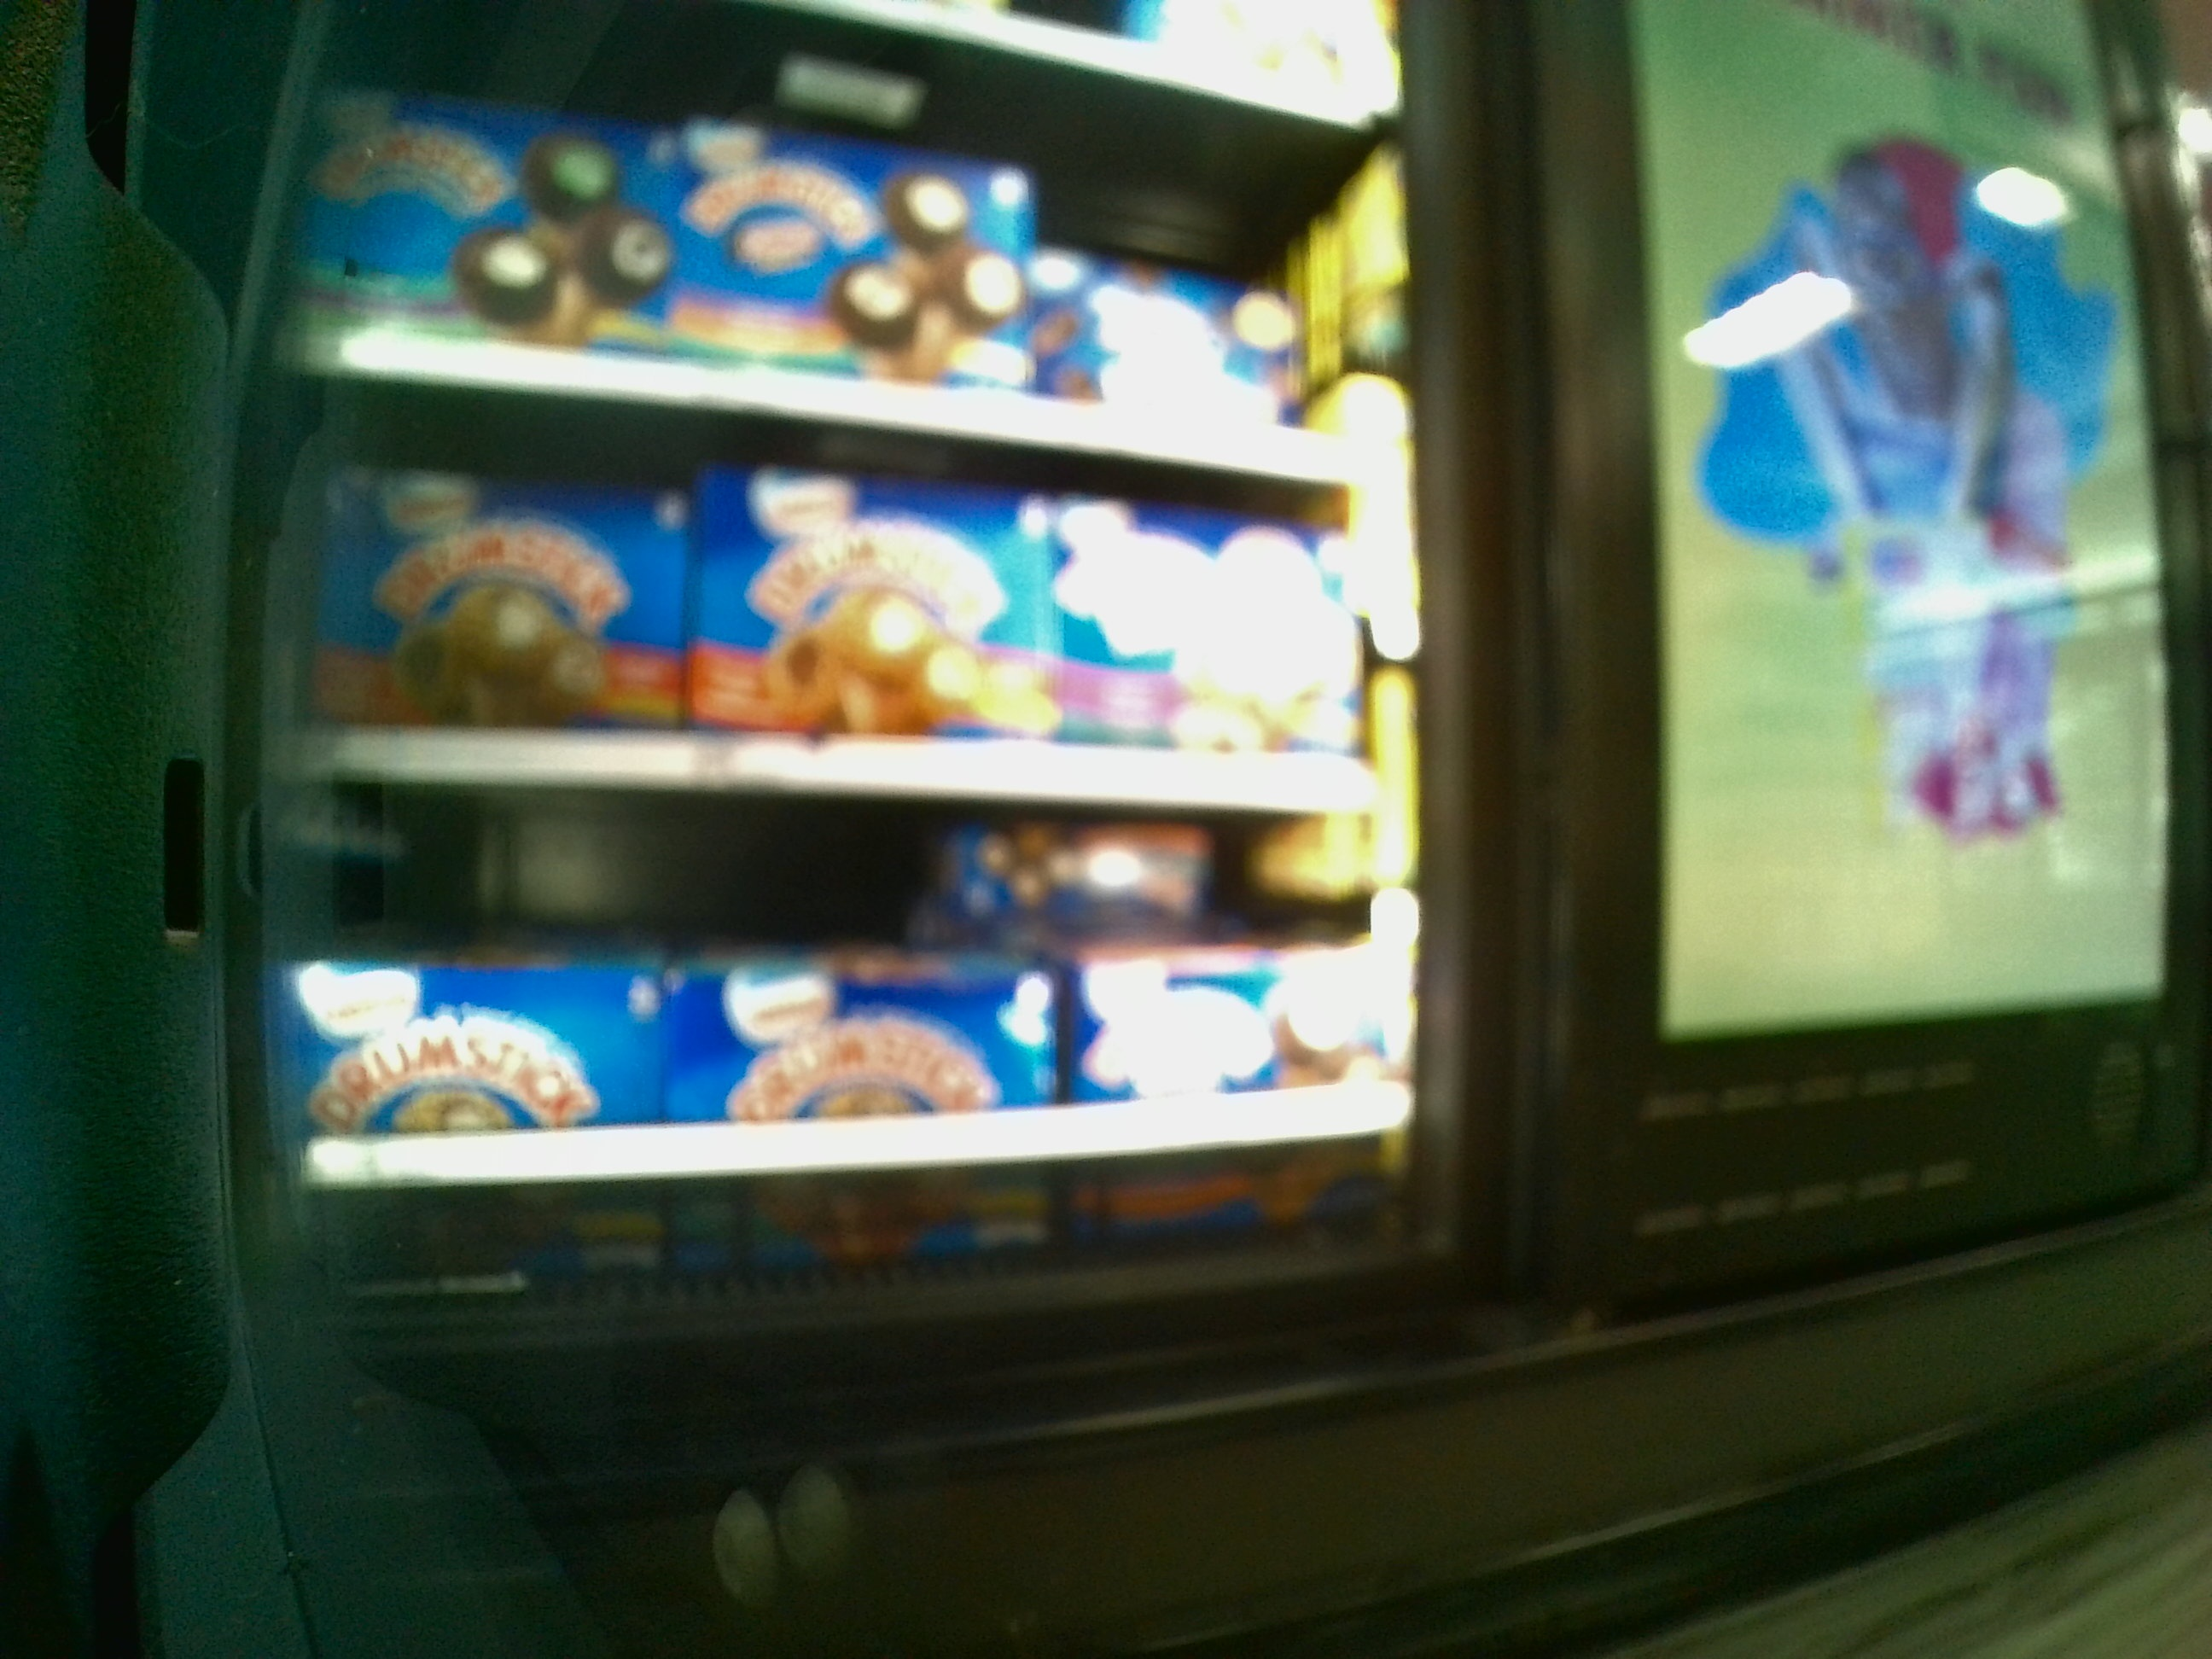shelf: (286, 805, 1402, 1291), (273, 437, 1393, 810)
